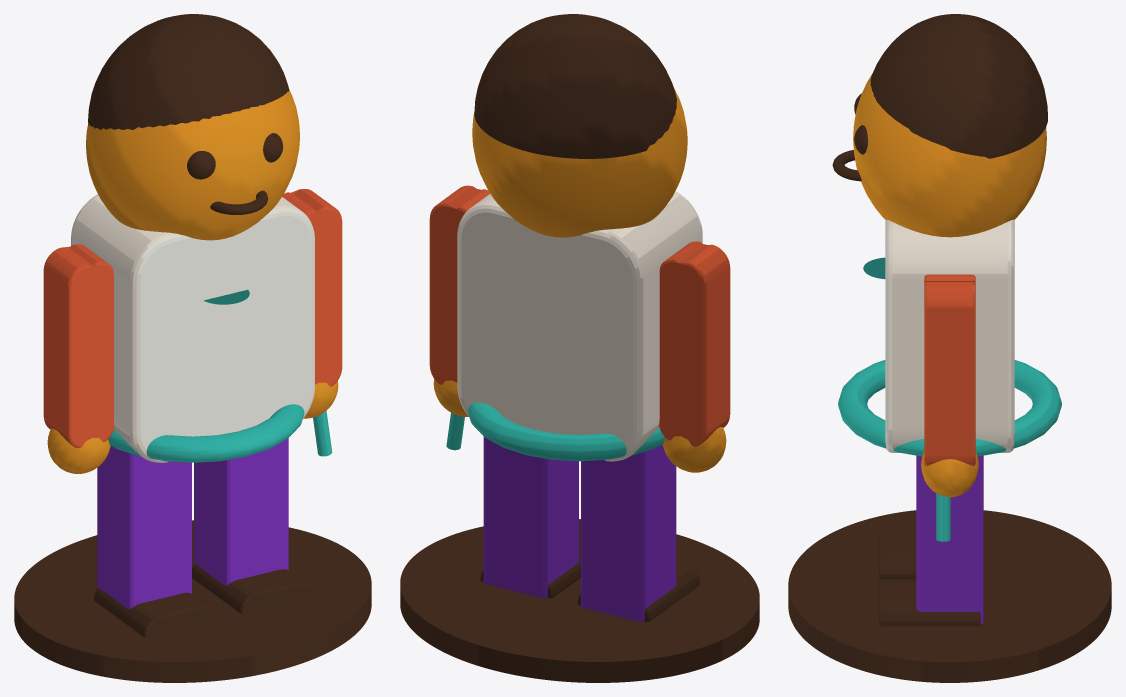
File: 1274_三国演义1_徐庶.glb
The picture shows the model from 3 angles, left to right: view 1: azimuth 30°, elevation 25°; view 2: azimuth 150°, elevation 25°; view 3: azimuth 270°, elevation 25°; orthographic projection.
Parts seen in each view (by area): view 1: card_1274; view 2: card_1274; view 3: card_1274.
Boxes of the visible parts, x1,y1,x2,y2 form: card_1274: [14, 14, 371, 682]; card_1274: [400, 14, 759, 682]; card_1274: [788, 14, 1111, 682].
Size of the model in its own units: 0.5534 by 1 by 0.4916.
